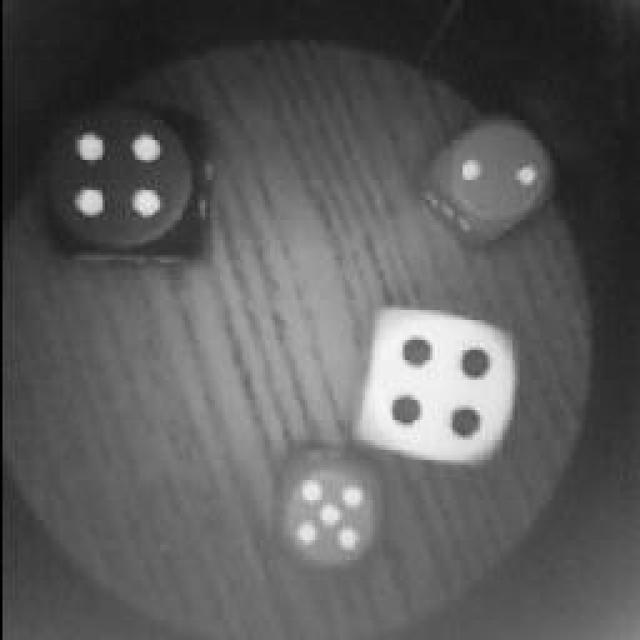dice_2: (428, 112, 552, 240)
dice_4: (37, 97, 205, 265), (353, 313, 525, 465)
dice_5: (272, 455, 380, 567)
